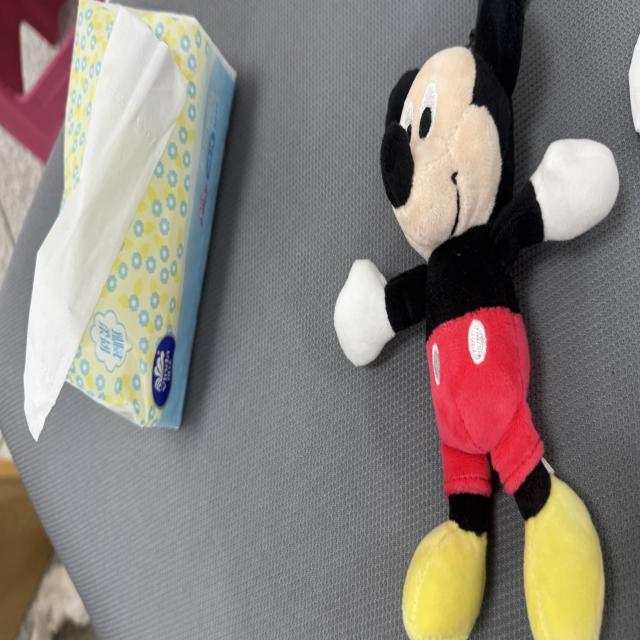mickey: (335, 0, 618, 639)
tissue: (25, 2, 234, 438), (629, 38, 639, 132)
